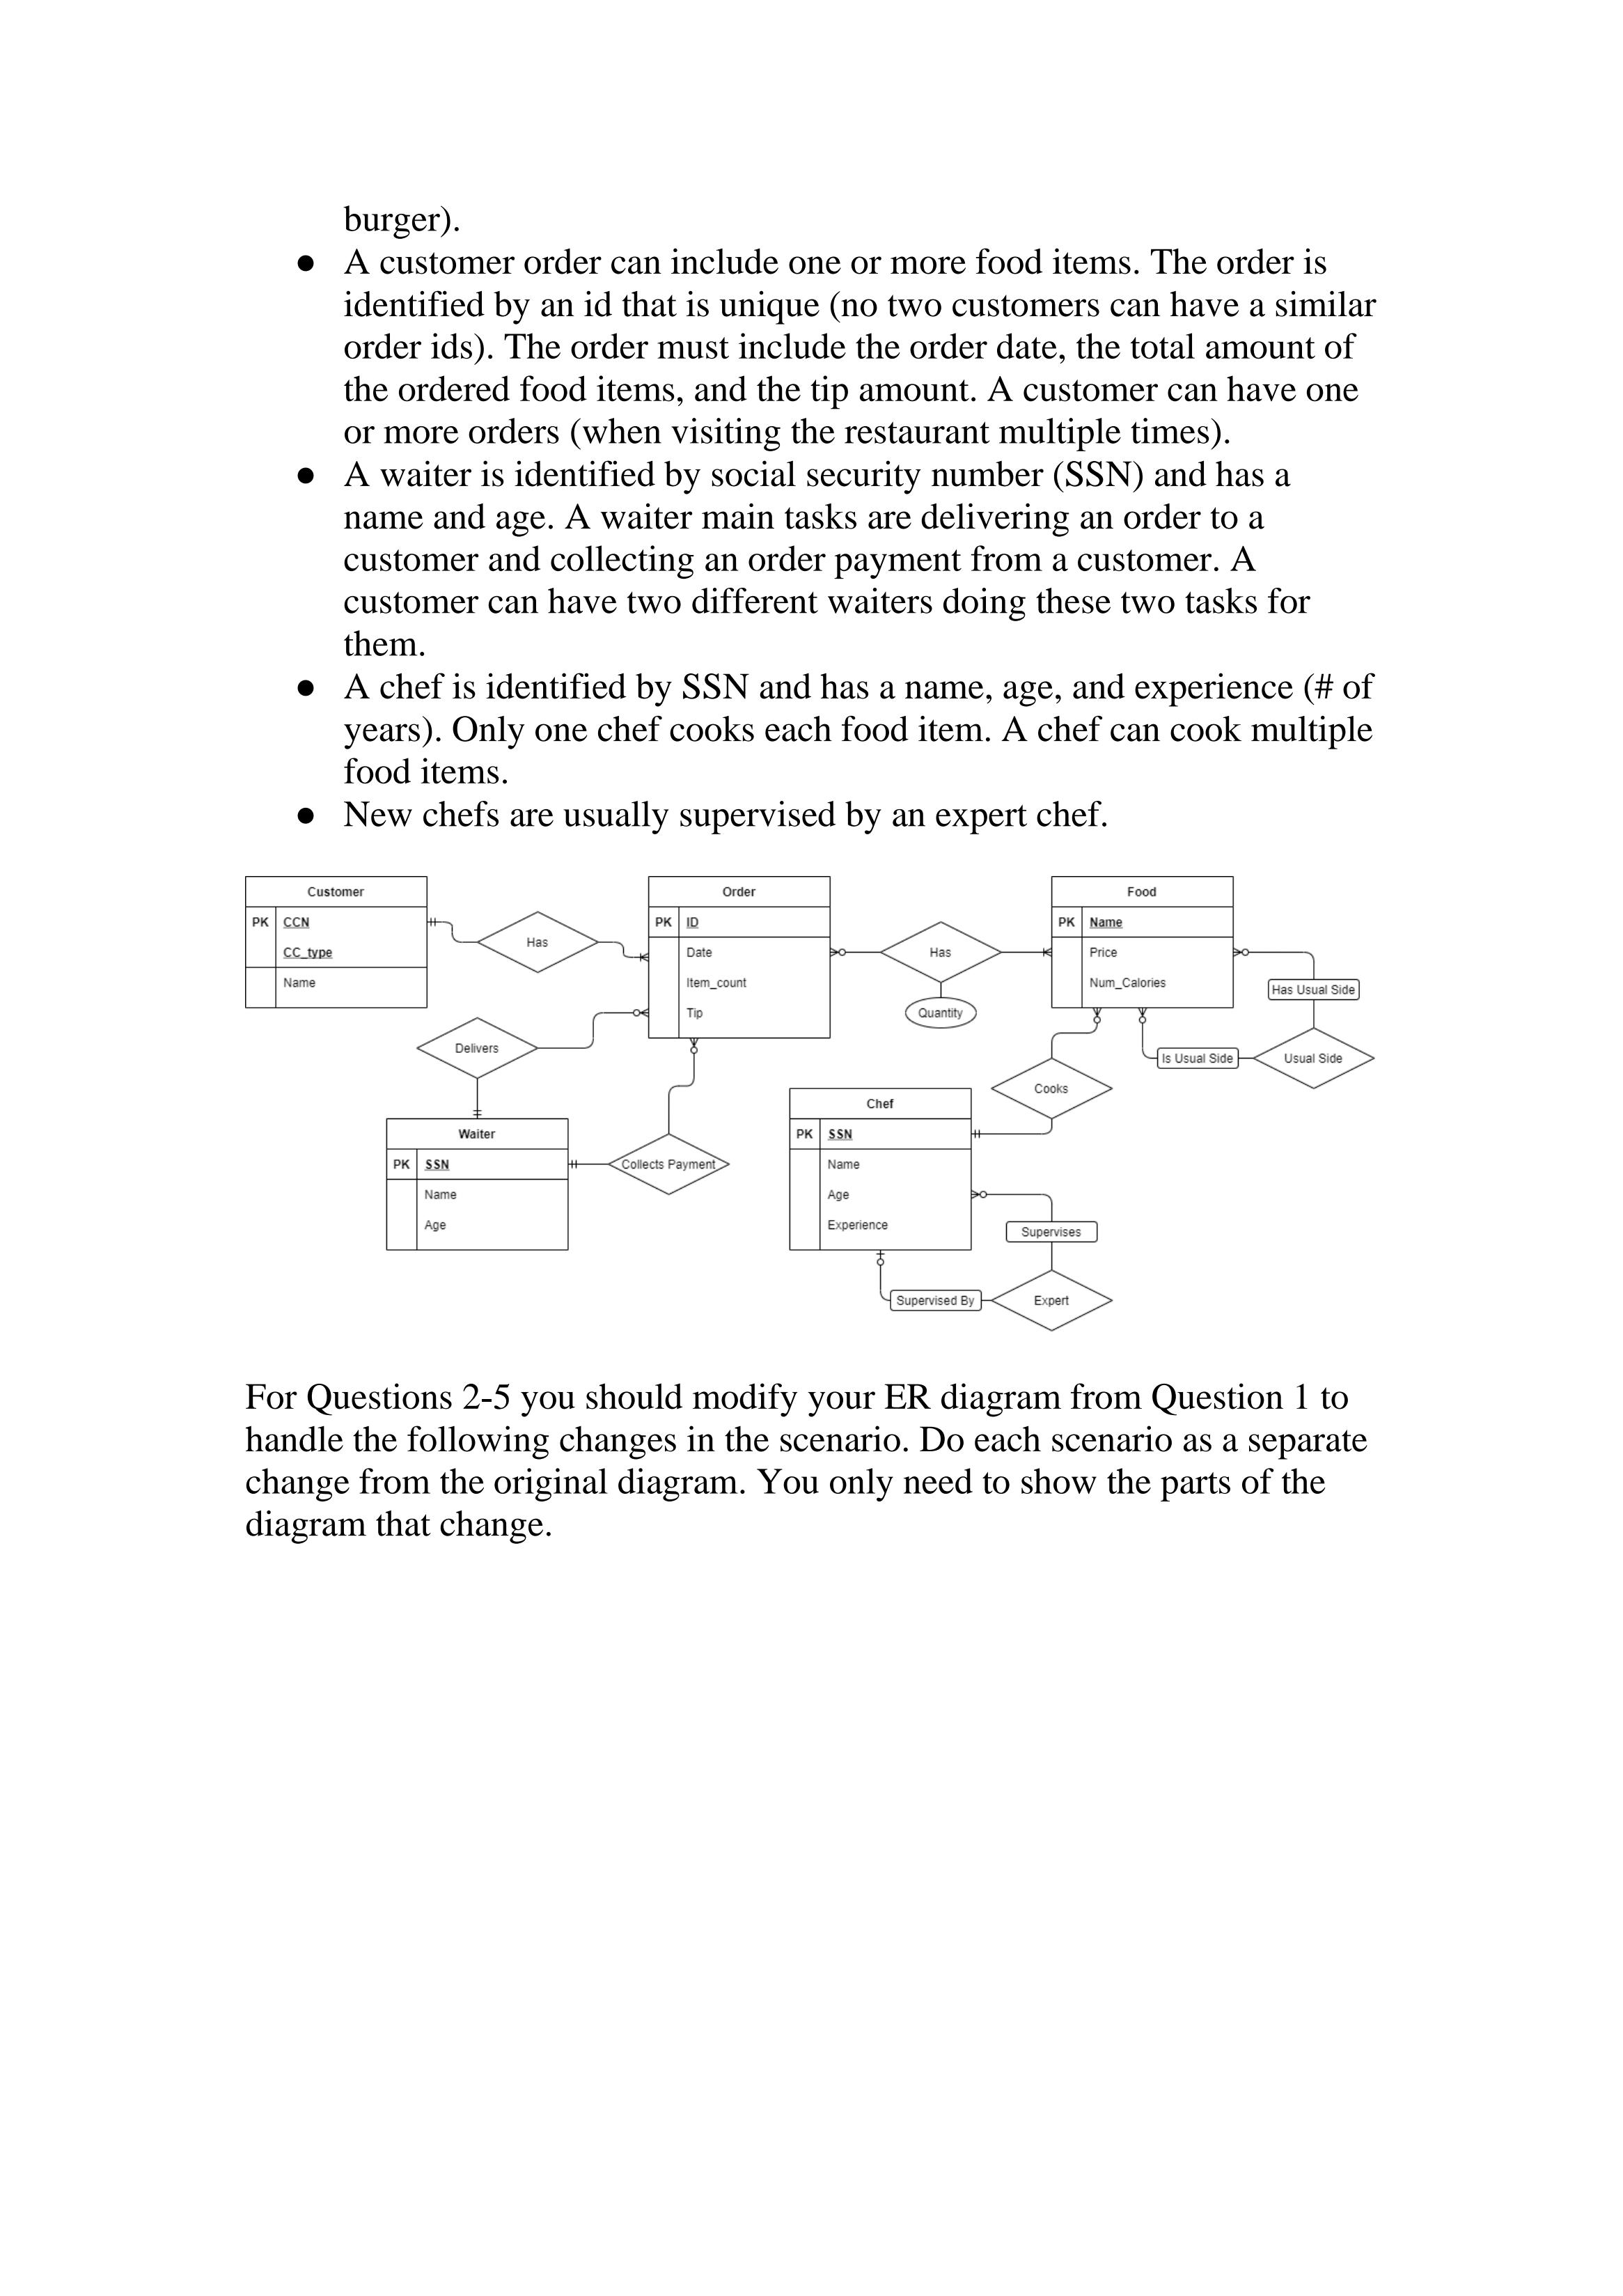Attribute: (905, 994, 980, 1033)
Entity: (639, 870, 834, 1045), (785, 1084, 980, 1256), (1043, 873, 1240, 1015), (379, 1114, 574, 1256), (239, 871, 432, 1012), (1256, 1022, 1379, 1093)
Relationship: (471, 906, 604, 978), (604, 1131, 736, 1200), (991, 1054, 1117, 1123), (880, 917, 1001, 986), (994, 1267, 1115, 1335), (413, 1019, 541, 1080)
